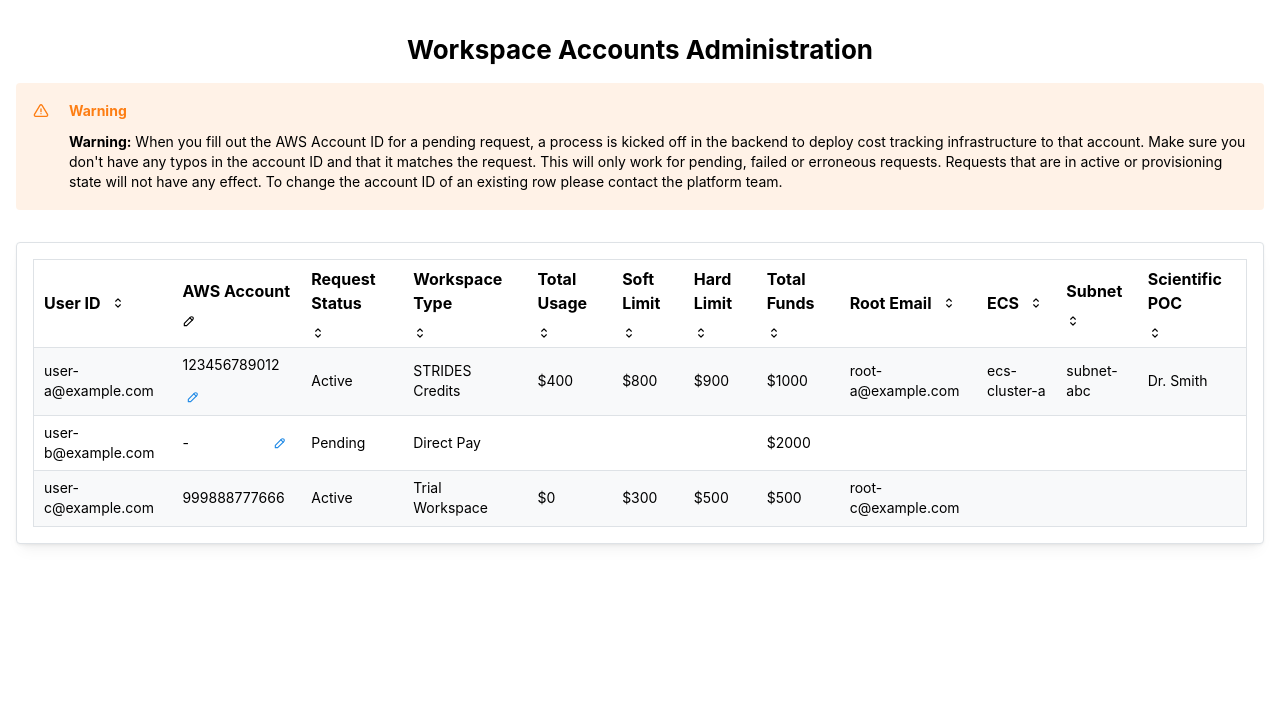
Test: WorkspaceAccountsAdminClient › Editable Account ID cell › shows a text input when the edit button is clicked
Check: the text "user-a@example.com" is shown, box [44, 361, 162, 402]
Click the button without text below "123456789012" at (193, 397), box [182, 386, 204, 408]
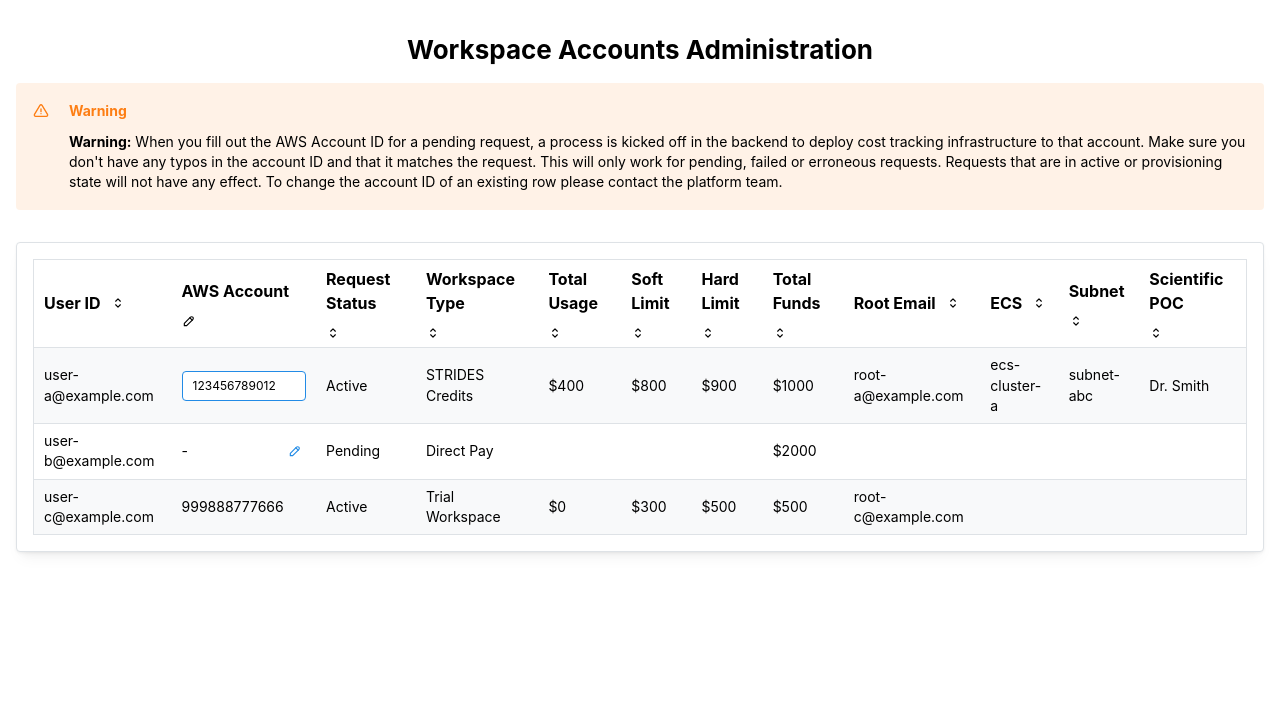
Check: the field is shown, box [182, 371, 306, 401]
